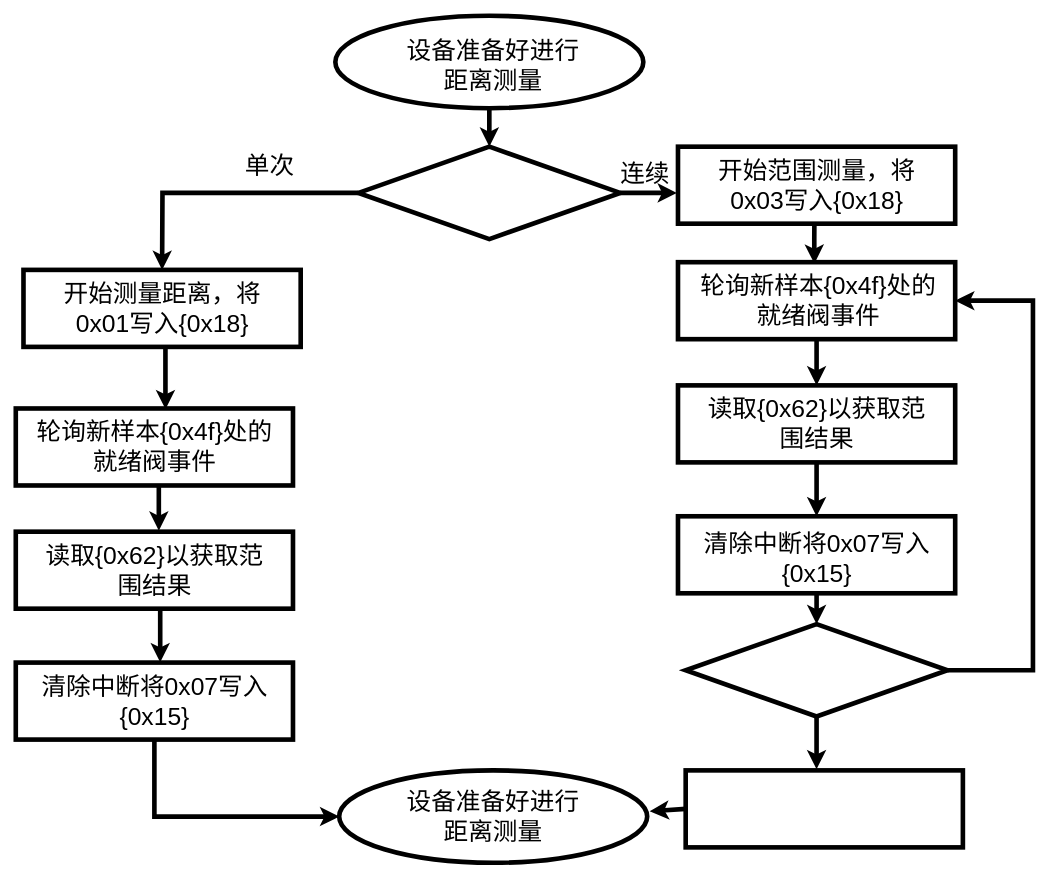
Image size: 1054x878. Some labels were removed from this diagram. Each missing label, with the centre of its shape:
停止测距，将0x01写入{0x18}: the point at 824,808
测距模式: the point at 489,192
继续测距？: the point at 816,669
